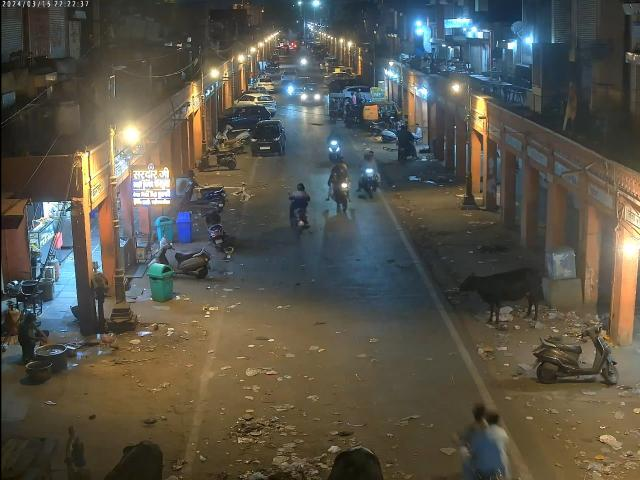cattle: (459, 268, 545, 326)
scooty: (536, 318, 622, 386), (147, 229, 210, 278), (178, 175, 229, 210), (201, 202, 226, 252)
scooty-rider: (286, 182, 310, 232)
